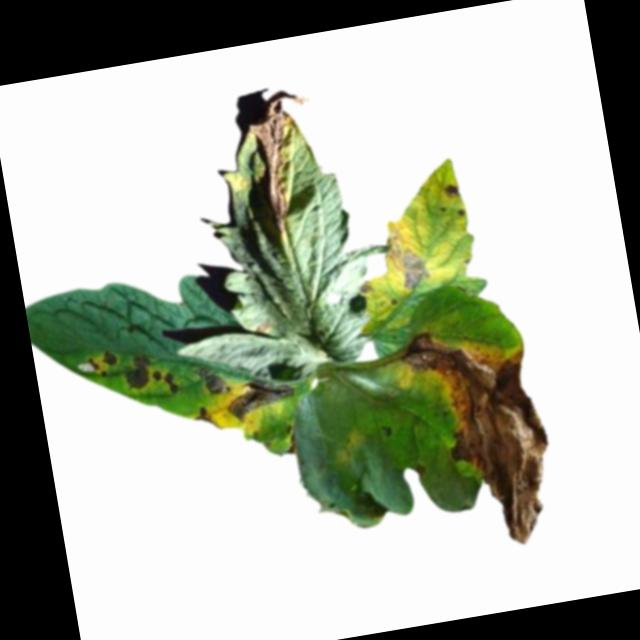Early_blight: (398, 316, 565, 560), (242, 87, 329, 241), (222, 369, 298, 426), (382, 232, 434, 295), (120, 353, 154, 393), (194, 362, 228, 401), (87, 348, 120, 383), (188, 401, 217, 435), (152, 367, 181, 399), (441, 182, 461, 203)
